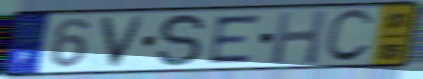6: (47, 16, 93, 71)
C: (321, 7, 377, 65)
E: (206, 12, 263, 66)
H: (268, 8, 329, 66)
S: (155, 12, 209, 69)
V: (97, 14, 149, 70)
